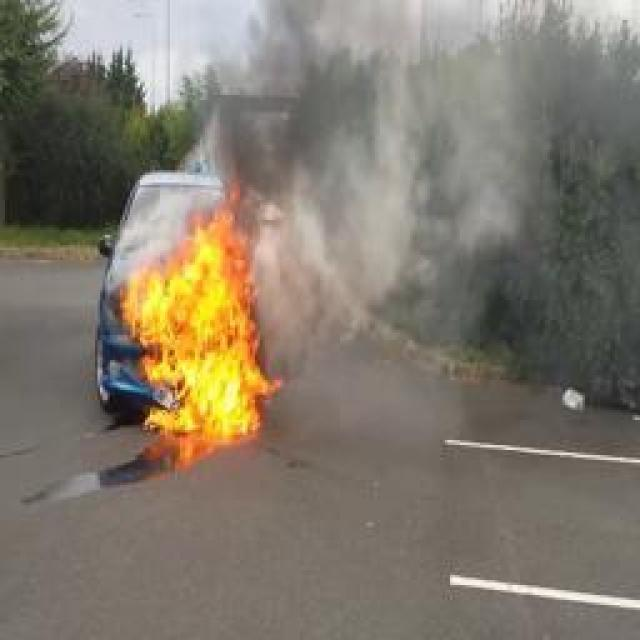Fire: (125, 184, 285, 444)
